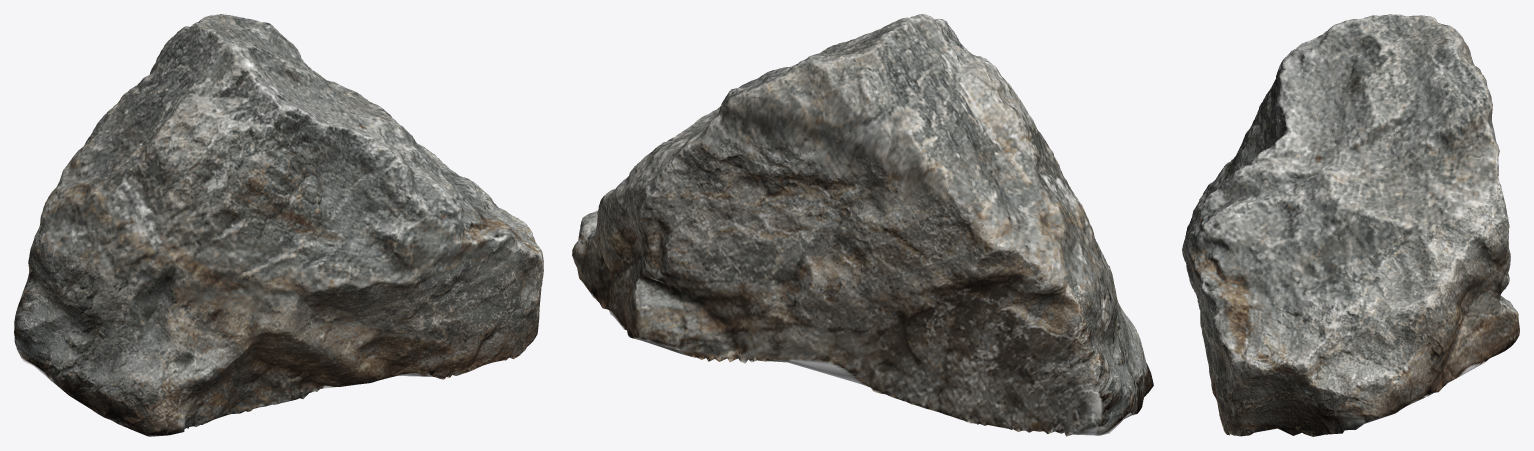
The model's file is sparse1.glb.
3 views of the same model, side by side, from view 1: azimuth 30°, elevation 25°; view 2: azimuth 150°, elevation 25°; view 3: azimuth 270°, elevation 25° (orthographic). The views are drawn at different scales.
Visible parts, largest first — view 1: Node; view 2: Node; view 3: Node.
Part boxes in pixels (x1,y1,x2,y2): Node: (14, 14, 543, 436); Node: (572, 14, 1153, 436); Node: (1182, 14, 1519, 436).
Size of the model in its own units: 5.04 by 3.32 by 3.11.
Materials: 1 (1 with a texture image).
